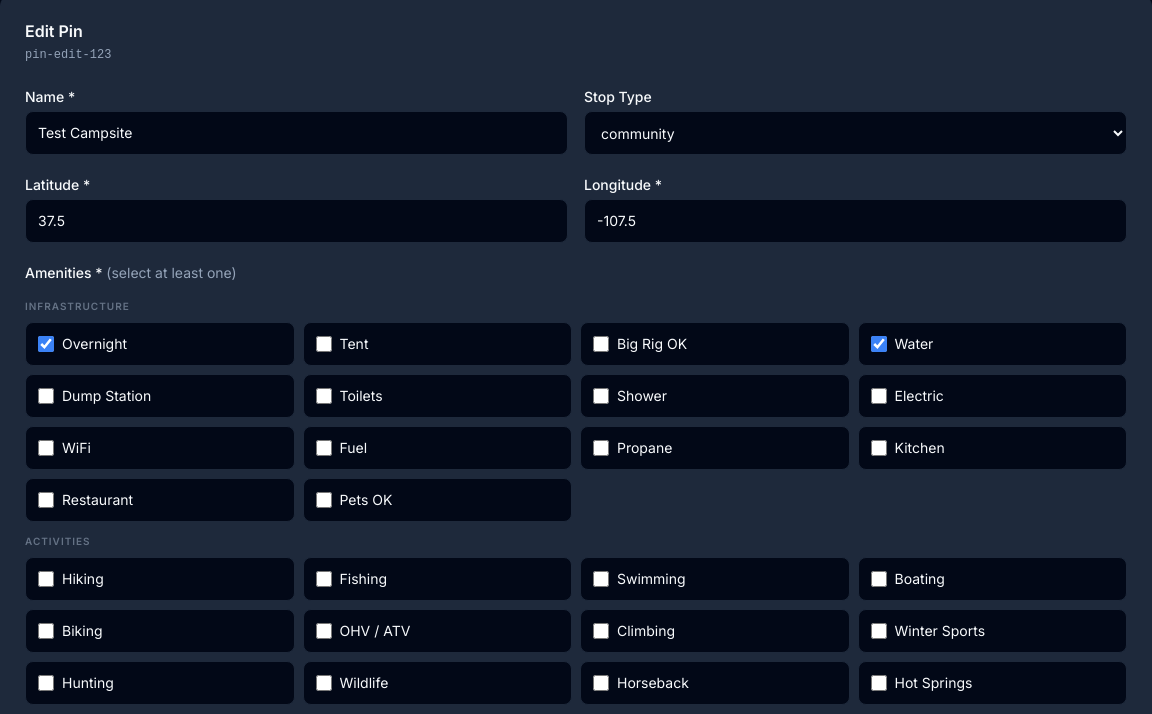
EditPinForm › shows required error when name is cleared on submit (6.5)
This screenshot has width=1152, height=714.
Clear the field labelled "Name *" at (296, 133), box [25,111,568,155]
(page scrolled)
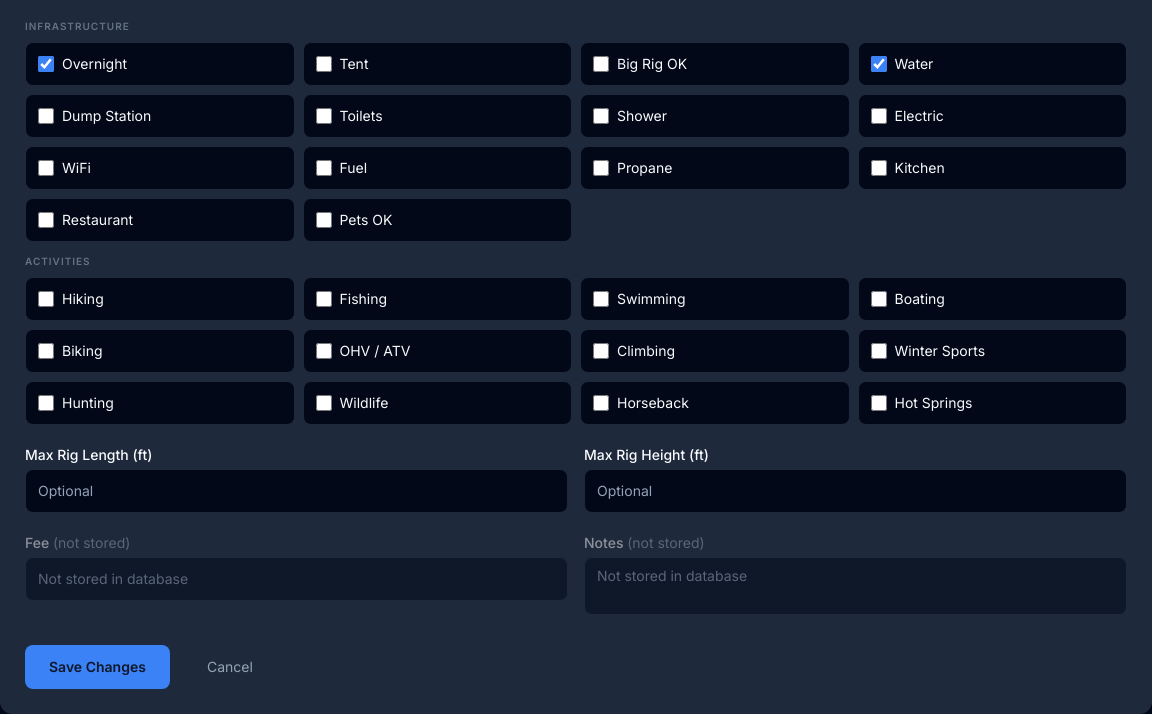
Click the button "Save Changes".
click(97, 667)  # box [25,645,170,689]
(page scrolled)
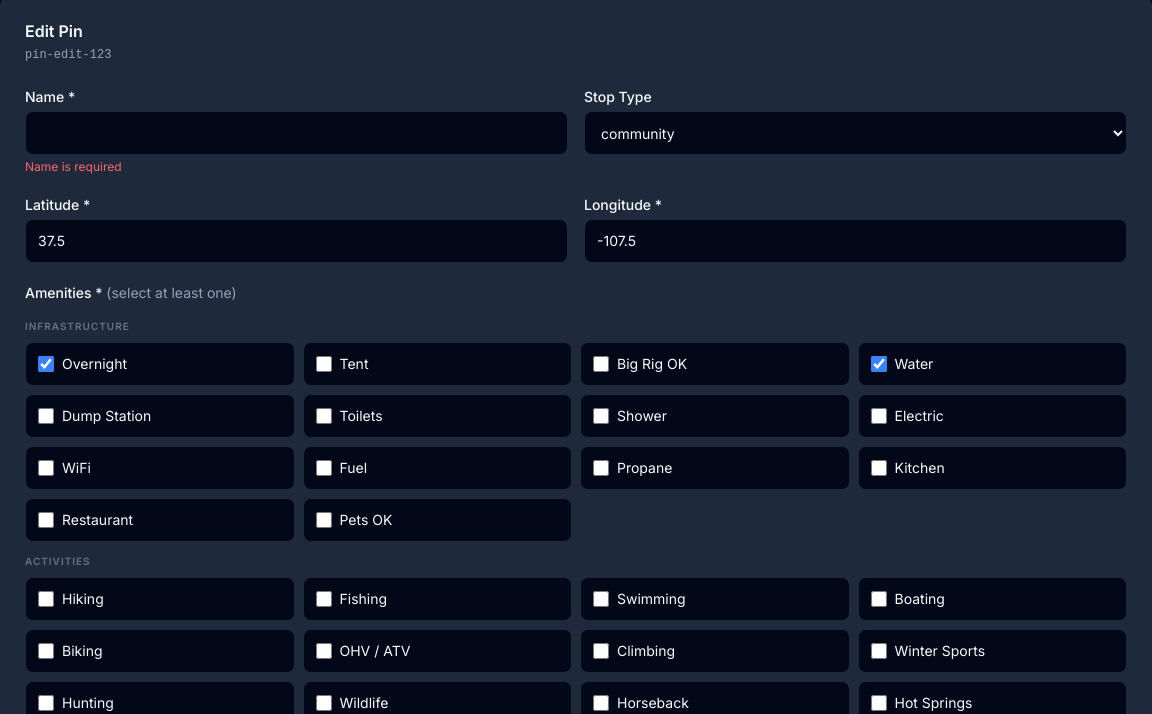
Expected: the text "Name is required" is shown, [25,159,122,174]
